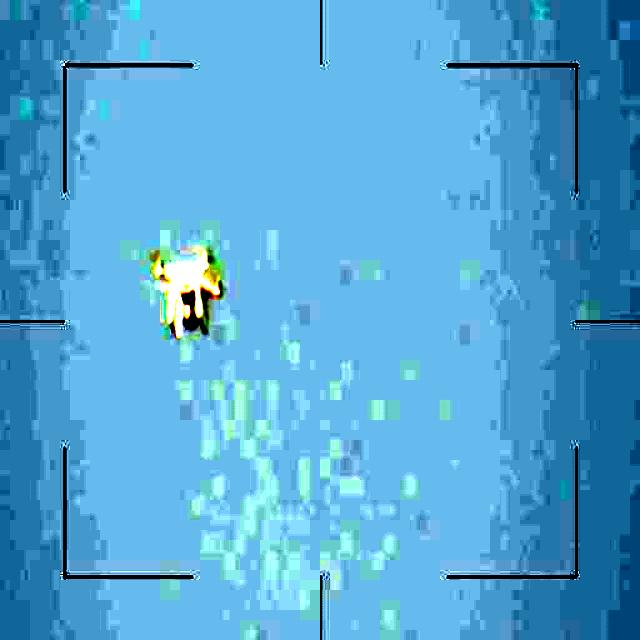bird: (141, 246, 234, 341)
